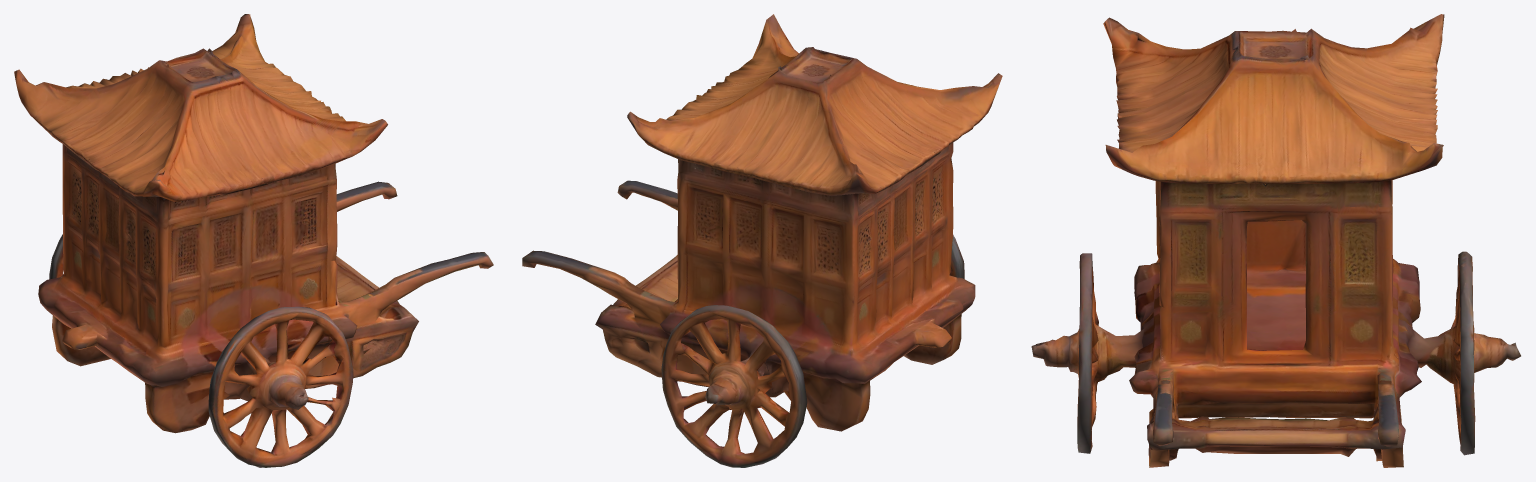
The model's file is lib_cart.hd.glb.
3 renders of one model, left to right at view 1: azimuth 30°, elevation 25°; view 2: azimuth 150°, elevation 25°; view 3: azimuth 270°, elevation 25°, orthographic. The views are drawn at different scales.
Size of the model in its own units: 1.96 by 1.72 by 1.88.
Materials: 1 (1 with a texture image).
